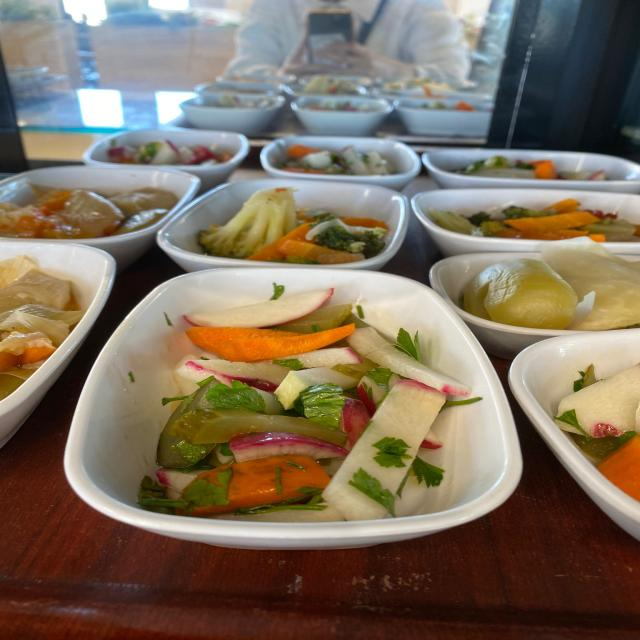yan_yemek: (136, 277, 456, 521)
